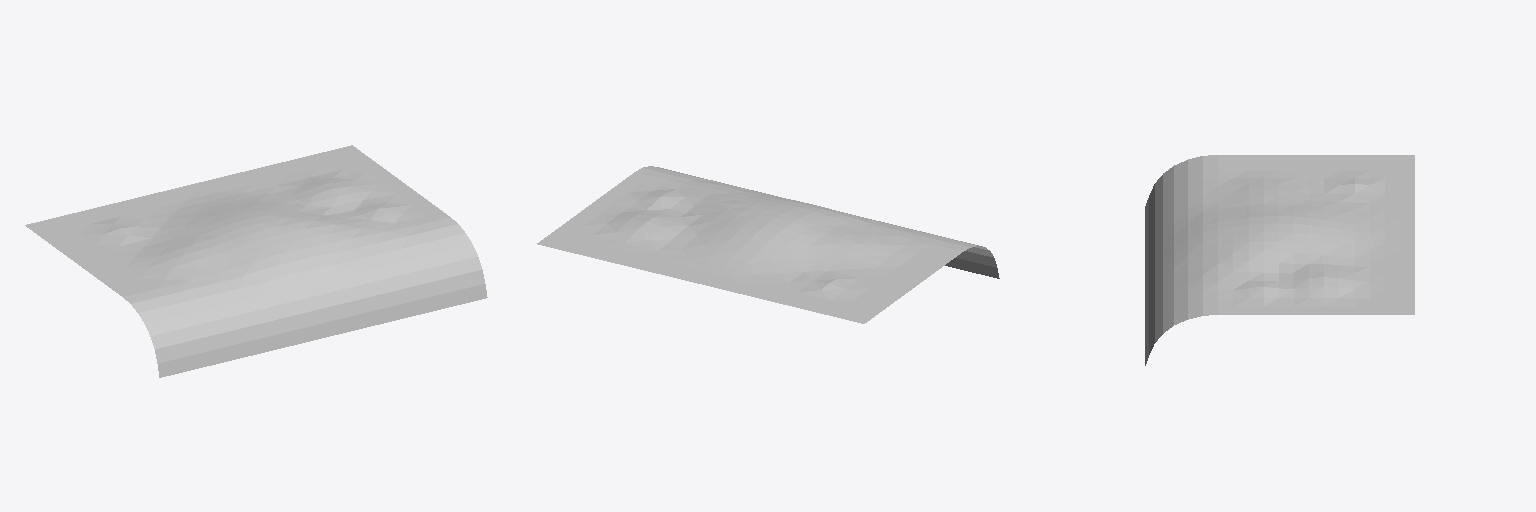
File: groundFront2.obj
3 renders of one model, left to right at view 1: azimuth 30°, elevation 25°; view 2: azimuth 150°, elevation 25°; view 3: azimuth 270°, elevation 25°, orthographic.
Visible parts, largest first — view 1: pPlane1; view 2: pPlane1; view 3: pPlane1.
Boxes of the visible parts, x1,y1,x2,y2 form: pPlane1: [25, 145, 487, 377]; pPlane1: [537, 166, 999, 323]; pPlane1: [1145, 155, 1414, 365].
Size of the model in its own units: 15 by 2.85 by 10.71.